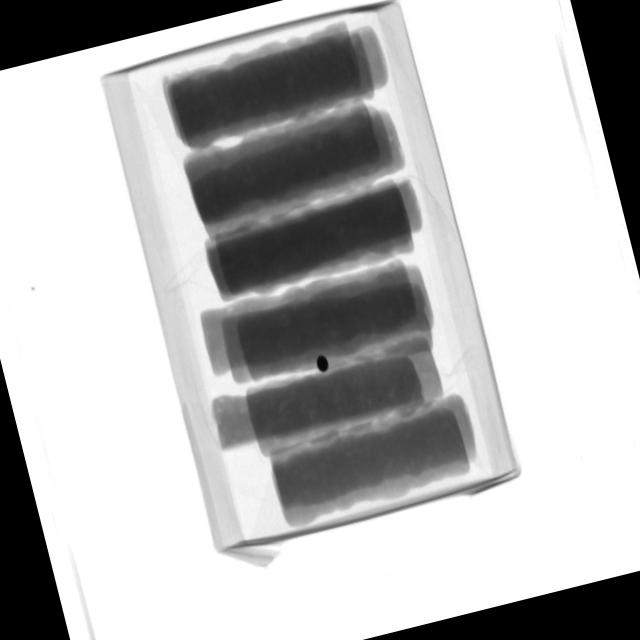ym: (316, 352, 332, 373)
